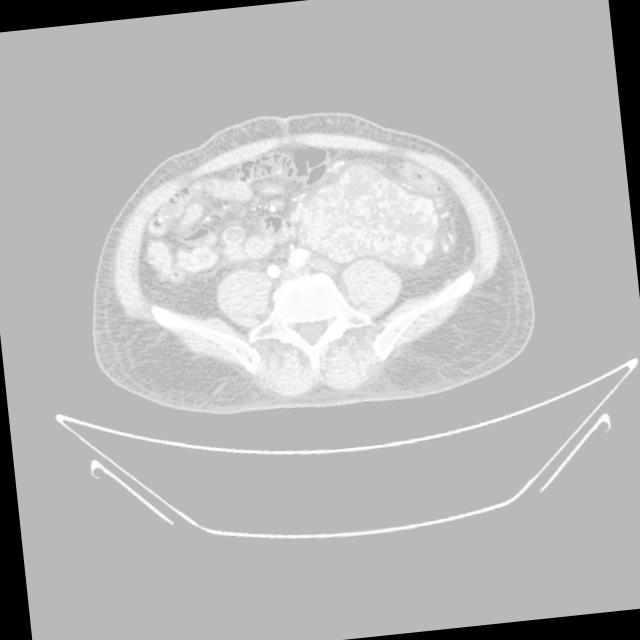TUMOR: (110, 133, 479, 326)
